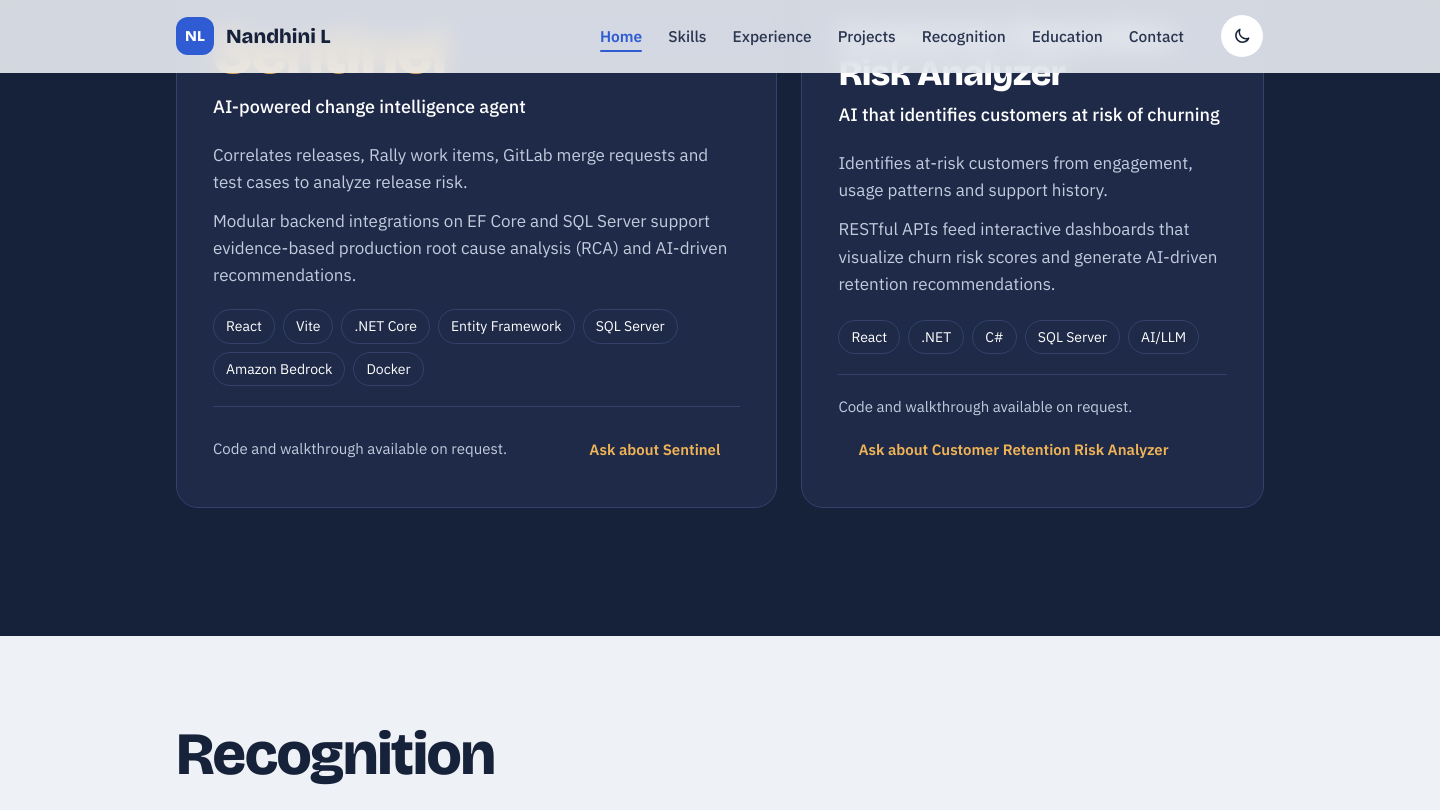
App › asking about a project scrolls to contact and pre-fills the message
(page scrolled)
Step 1. Click the button "Ask about Sentinel" → (655, 449), box x1=569 y1=427 x2=740 y2=471
(page scrolled)
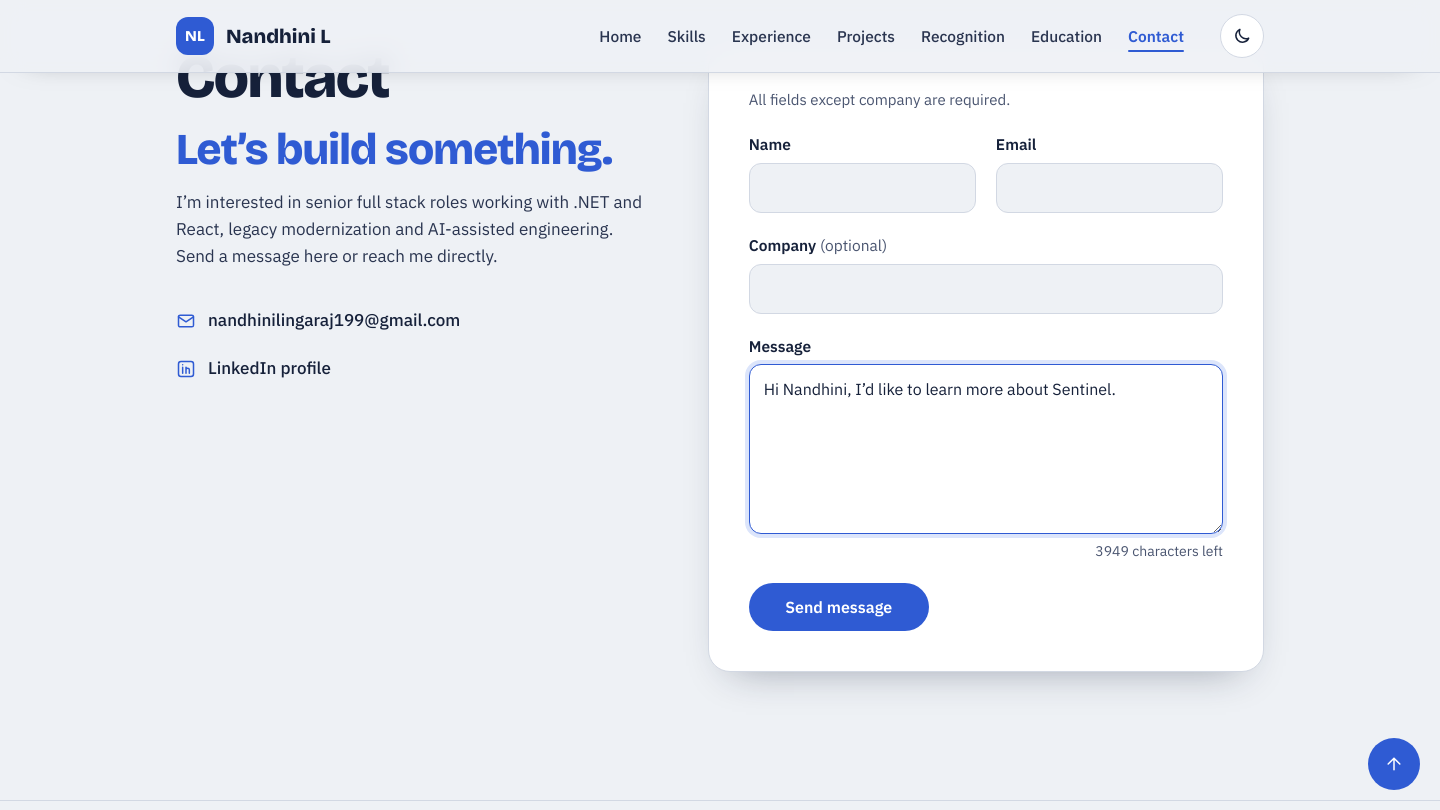
Check: the text box labelled "Message" holds "Hi Nandhini, I’d like to learn more about Sentinel.", box x1=749 y1=364 x2=1223 y2=534
